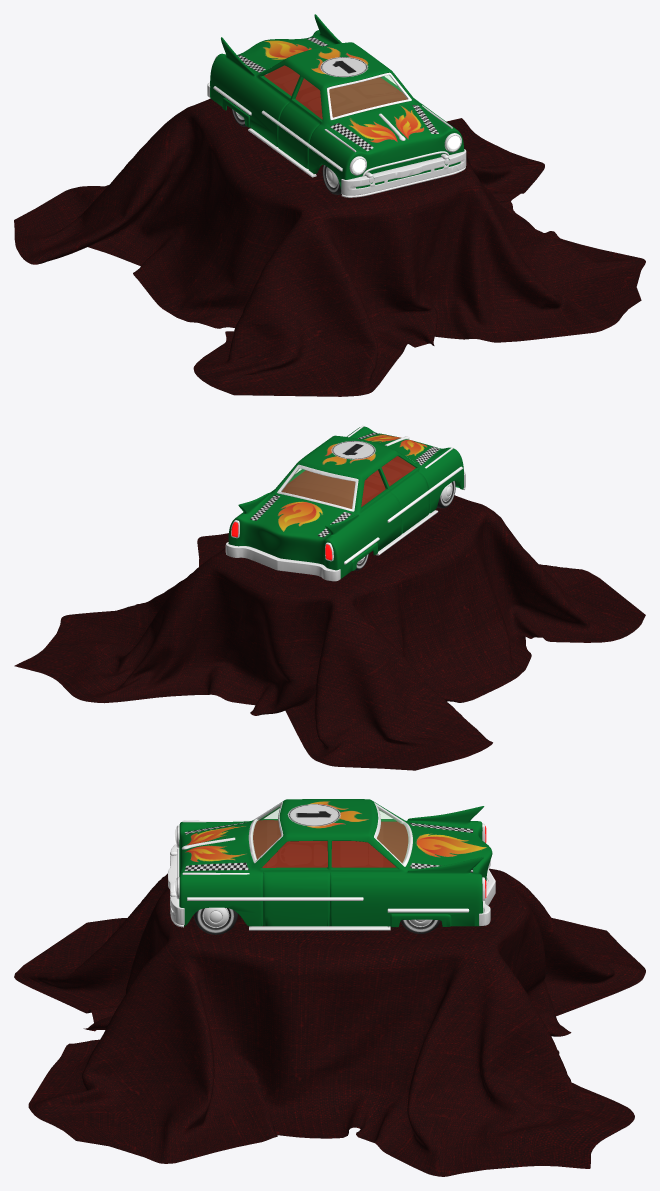
The model's file is sample-car.8f816952f2.ar.glb.
3 renders of one model, top to bottom at view 1: azimuth 30°, elevation 25°; view 2: azimuth 150°, elevation 25°; view 3: azimuth 270°, elevation 25°, orthographic. The views are drawn at different scales.
Visible parts, largest first — view 1: Fabric, ToyCar, Glass; view 2: Fabric, ToyCar, Glass; view 3: Fabric, ToyCar, Glass.
Part boxes in pixels (box(x1,y1,x2,y2)): Fabric: box(14, 98, 645, 396); ToyCar: box(207, 14, 466, 197); Glass: box(329, 75, 407, 116); Fabric: box(14, 495, 645, 770); ToyCar: box(225, 425, 465, 581); Glass: box(282, 468, 354, 508); Fabric: box(14, 868, 645, 1176); ToyCar: box(168, 799, 495, 934); Glass: box(252, 806, 409, 862).
Bounding box in the file's own units: 0.0734 × 0.0288 × 0.074.
Materials: 3 (2 with a texture image).
